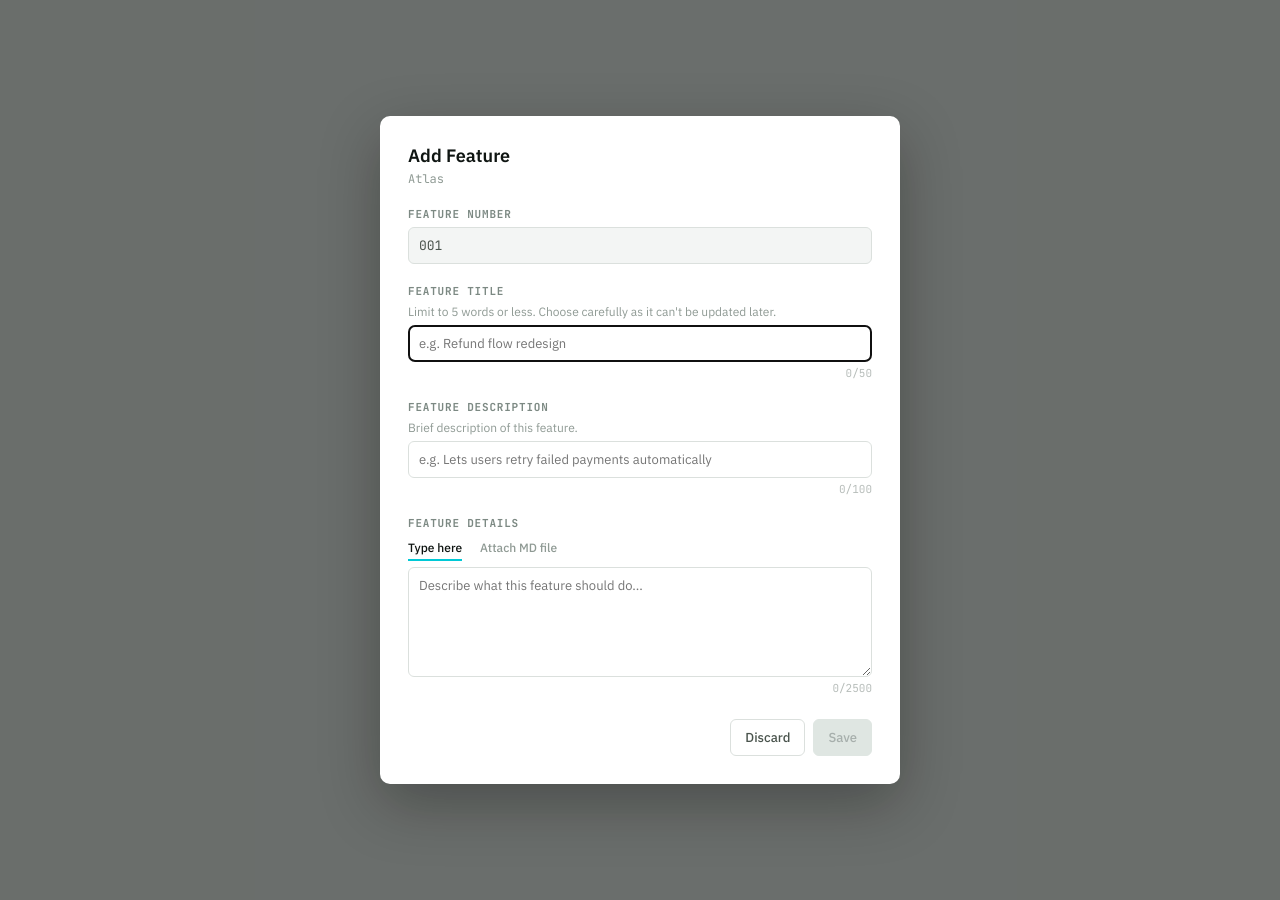
Test: preserves typed details while switching attachment tabs
Type "Detailed brief" into the text box named "Feature details" at coordinates (640, 622), box [408,567,872,677]
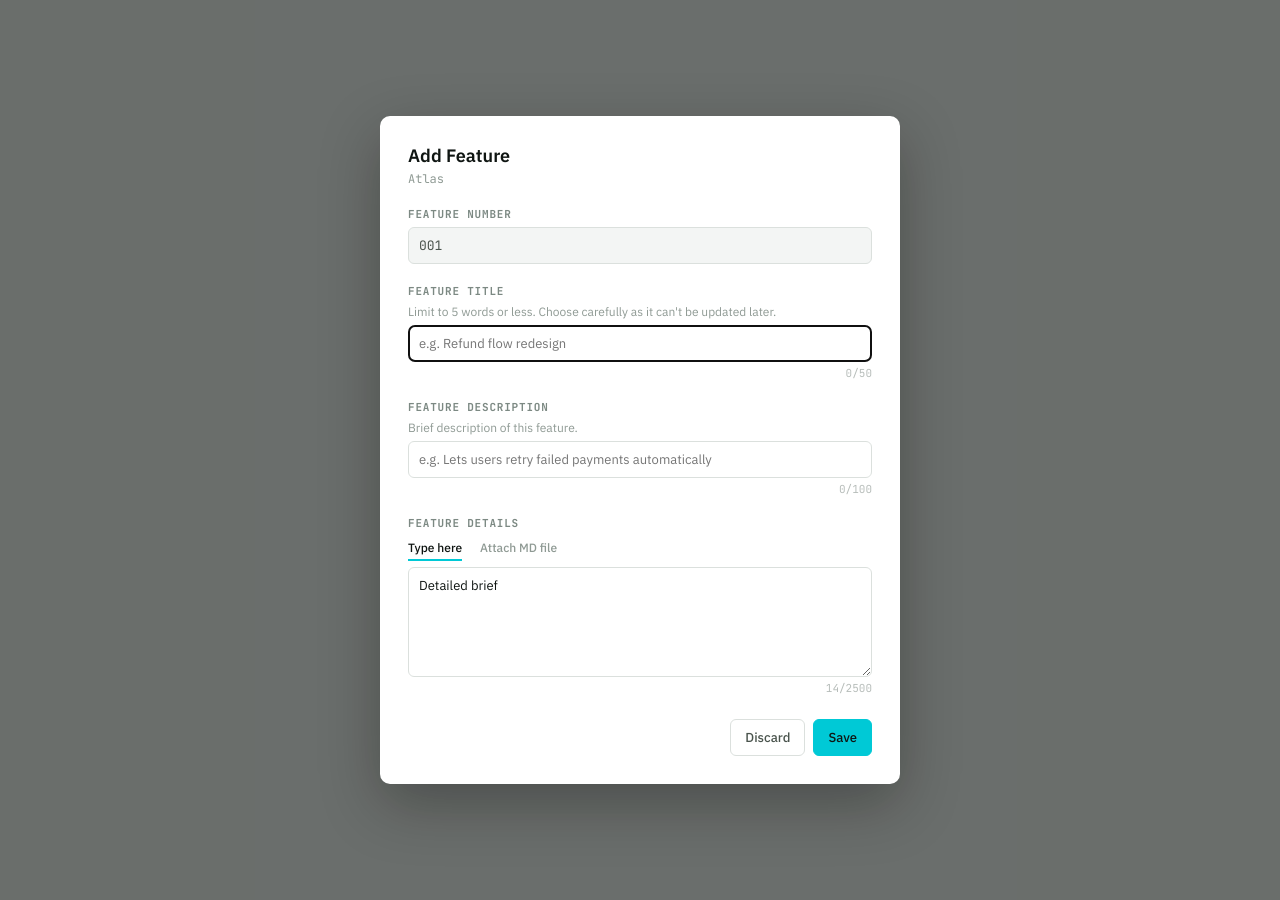
Click the tab "Attach MD file" at coordinates (519, 548), box [480,536,557,561]
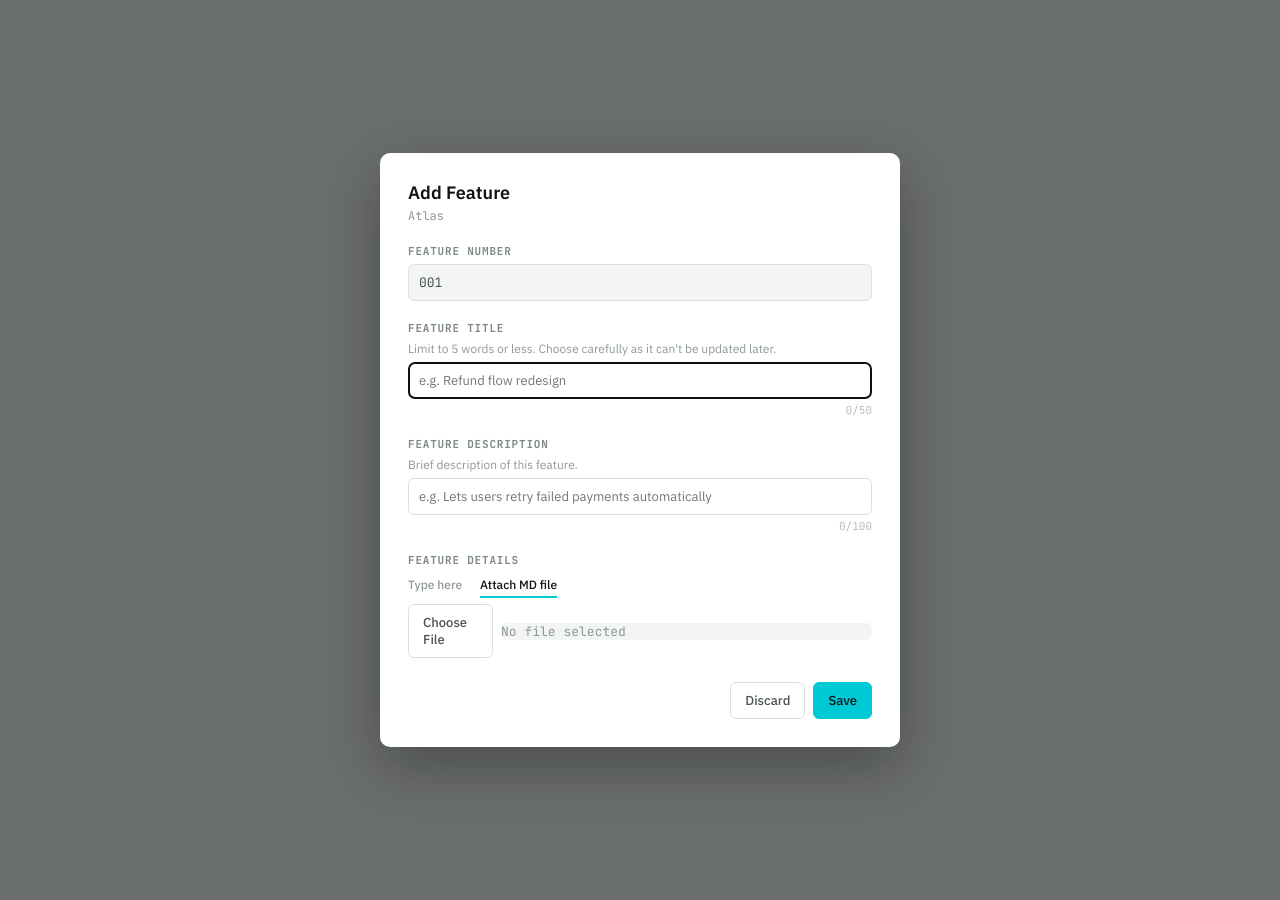
Click the tab "Type here" at coordinates (435, 586), box [408,573,462,598]
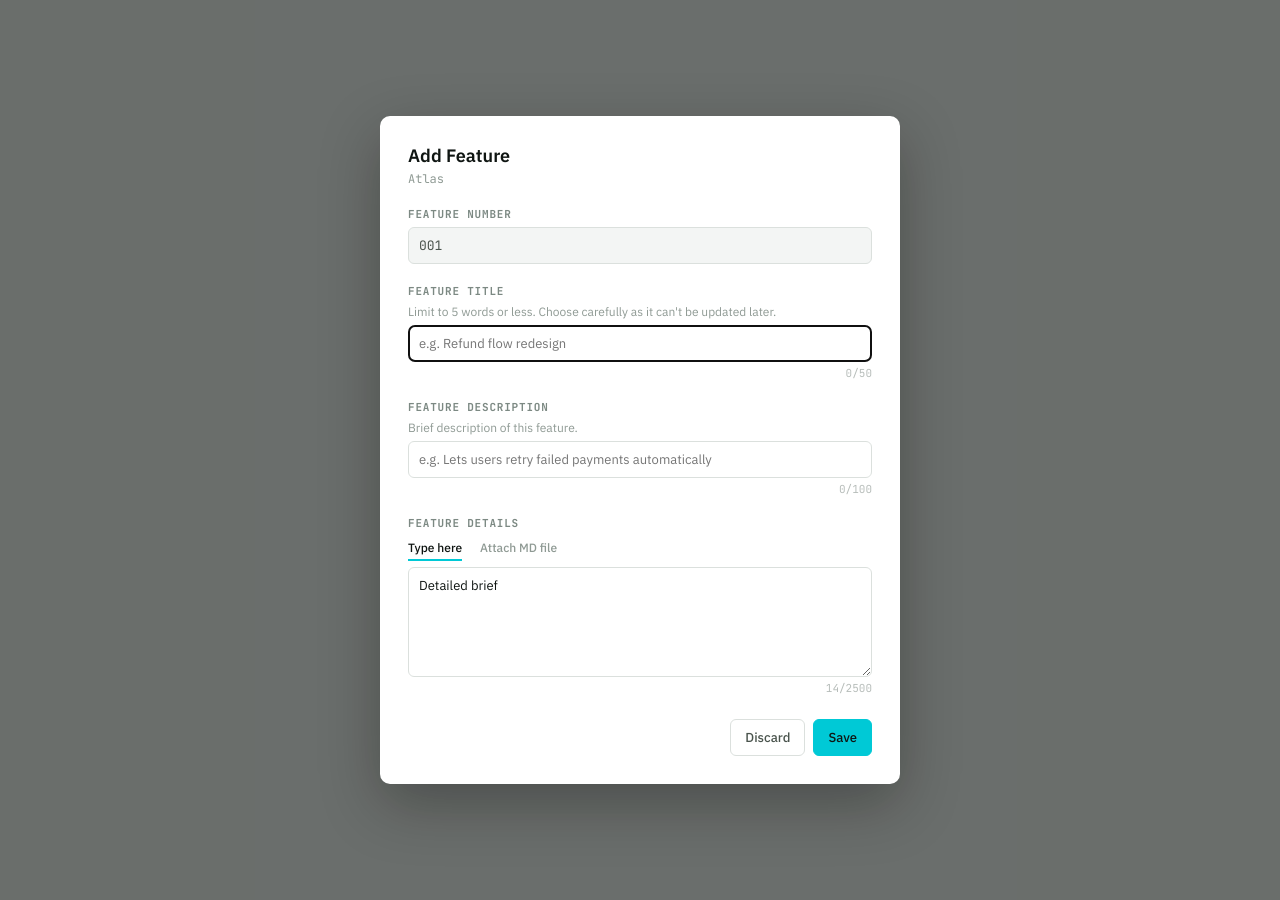
Now the text box named "Feature details" holds "Detailed brief", box [408,567,872,677]
